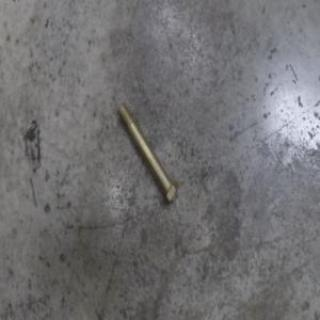Bolttrack_idkeyframe: (115, 99, 178, 206)
